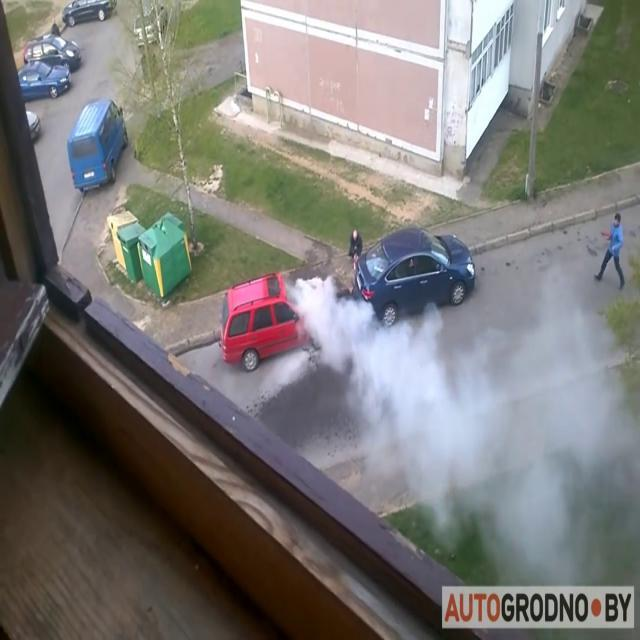Smoke: (314, 257, 640, 587)
